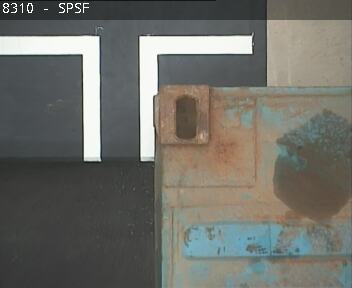groundmarker_1: (1, 33, 251, 160)
